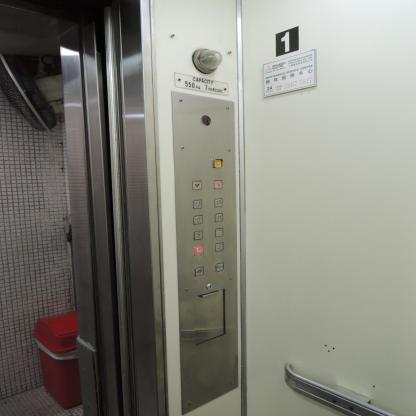11: (214, 213, 223, 222)
13: (192, 199, 202, 210)
15: (214, 198, 223, 208)
3: (215, 242, 223, 252)
5: (193, 230, 203, 240)
7: (215, 227, 223, 237)
9: (192, 214, 202, 224)
G: (194, 245, 204, 256)
alarm: (213, 158, 223, 168)
blur: (200, 114, 212, 126)
close: (215, 262, 224, 273)
down: (192, 180, 202, 190)
keyhole: (206, 284, 213, 290)
open: (194, 266, 204, 277)
up: (214, 180, 222, 190)
